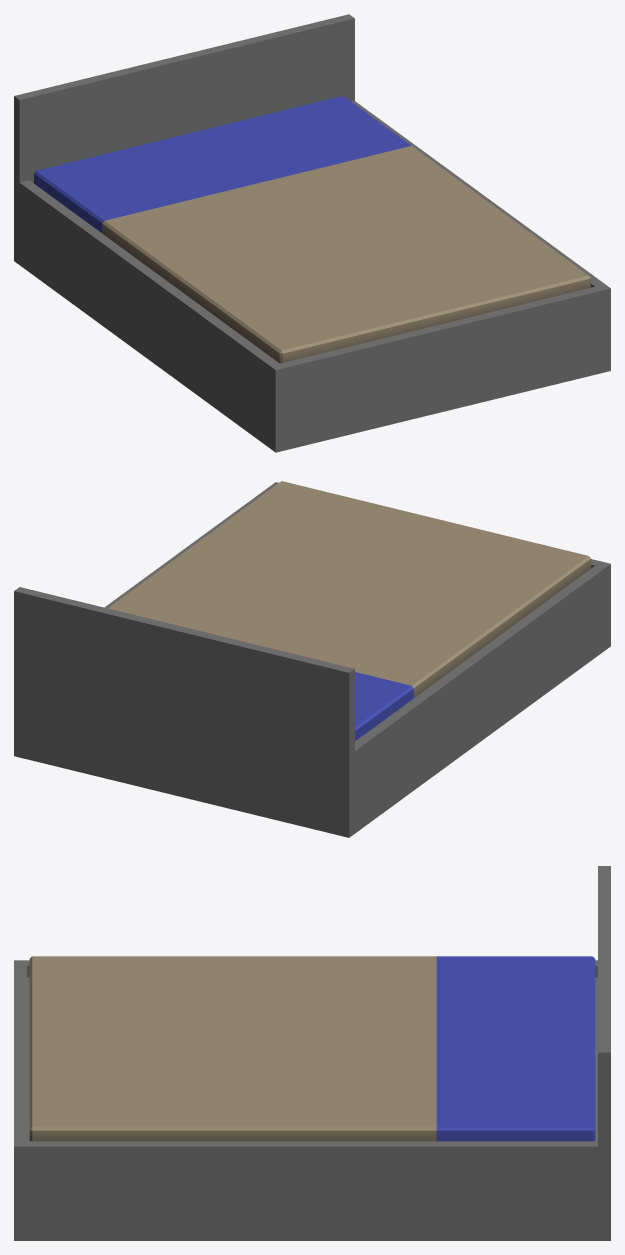
Rendered from bed.fbx.
3 views of the same model, one above another, from view 1: azimuth 30°, elevation 25°; view 2: azimuth 150°, elevation 25°; view 3: azimuth 270°, elevation 25° (orthographic). The views are drawn at different scales.
Visible parts, largest first — view 1: BedCaptain00; view 2: BedCaptain00; view 3: BedCaptain00.
Part boxes in pixels (x1,y1,x2,y2): BedCaptain00: [14, 14, 610, 452]; BedCaptain00: [14, 481, 610, 837]; BedCaptain00: [14, 866, 610, 1240].
Bounding box in the file's own units: 170 × 80 × 230.
